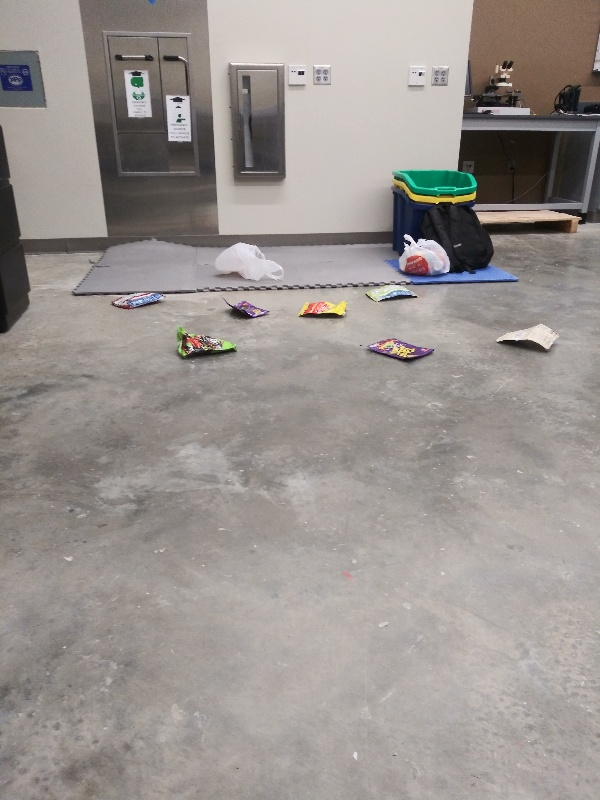bag: (168, 324, 241, 362), (490, 321, 566, 355), (361, 334, 439, 365), (106, 287, 171, 311), (360, 282, 420, 306), (218, 294, 272, 320), (295, 297, 348, 320)
